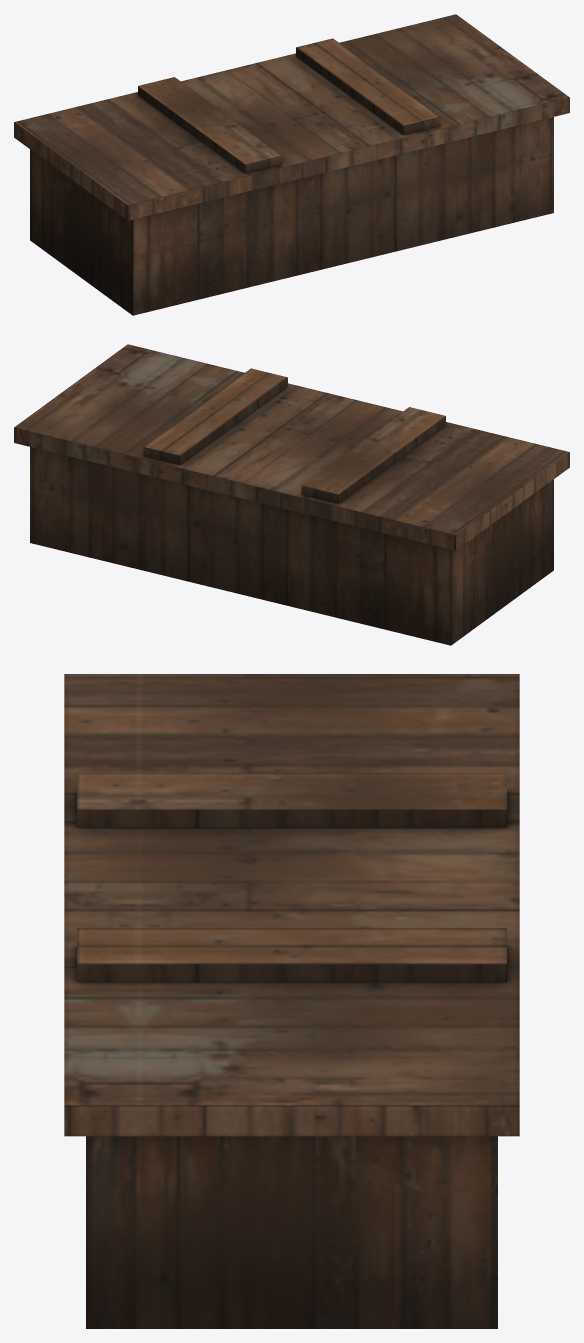
The model's file is Crate2_atlas.fbx.
The picture shows the model from 3 angles, top to bottom: view 1: azimuth 30°, elevation 25°; view 2: azimuth 150°, elevation 25°; view 3: azimuth 270°, elevation 25°; orthographic projection. The views are drawn at different scales.
Visible parts, largest first — view 1: polySurface2; view 2: polySurface2; view 3: polySurface2.
Boxes of the visible parts, bbox=[...] form: polySurface2: bbox=[14, 14, 569, 315]; polySurface2: bbox=[14, 344, 569, 645]; polySurface2: bbox=[64, 674, 519, 1328].
Bounding box in the file's own units: 1.41 × 0.3828 × 0.6278.
